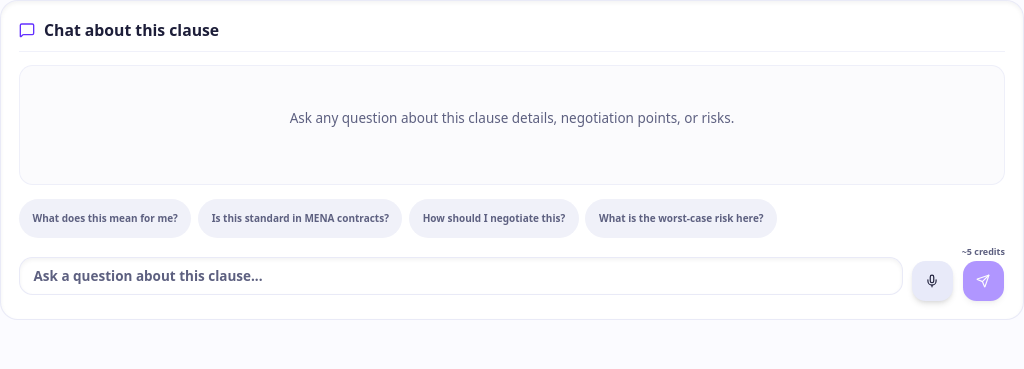
Test: ClauseChat Component › accumulates chunks incrementally and builds response text instead of replacing it
This screenshot has width=1024, height=369.
Type "Run test stream" into the text box with placeholder "Ask a question about this clause..." at [461, 276], box [19,257,903,295]
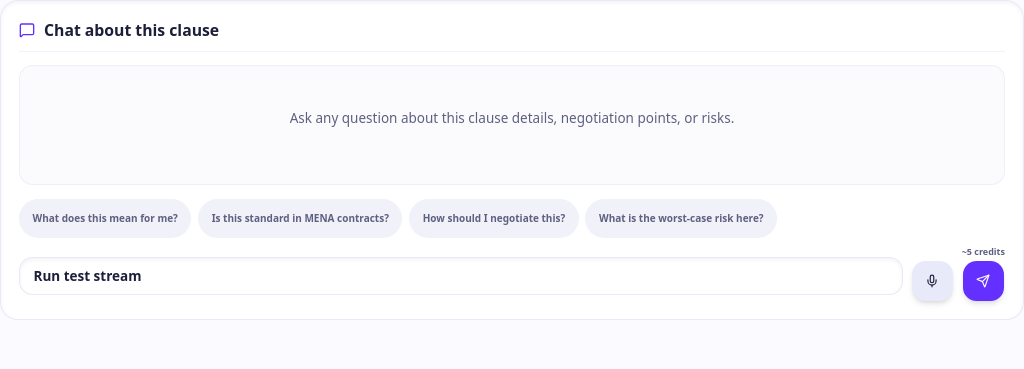
Click the button named "Send" at [983, 281], box [963,261,1004,301]
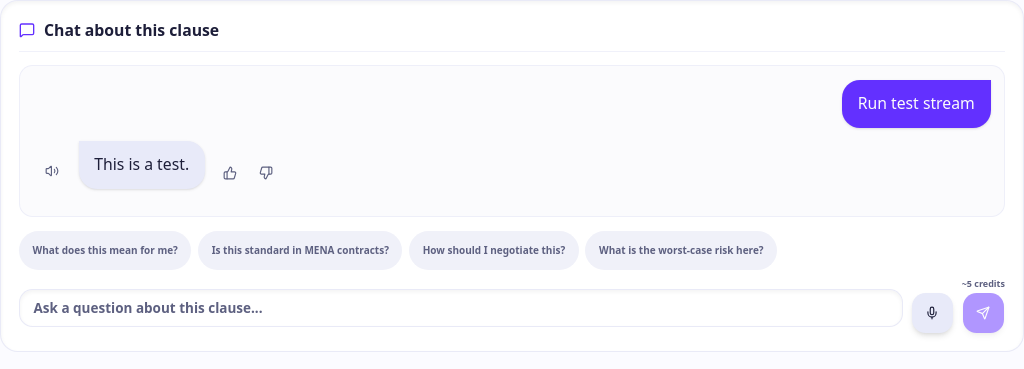
Expected: the text "This is a test." is shown, [94,152,189,178]
